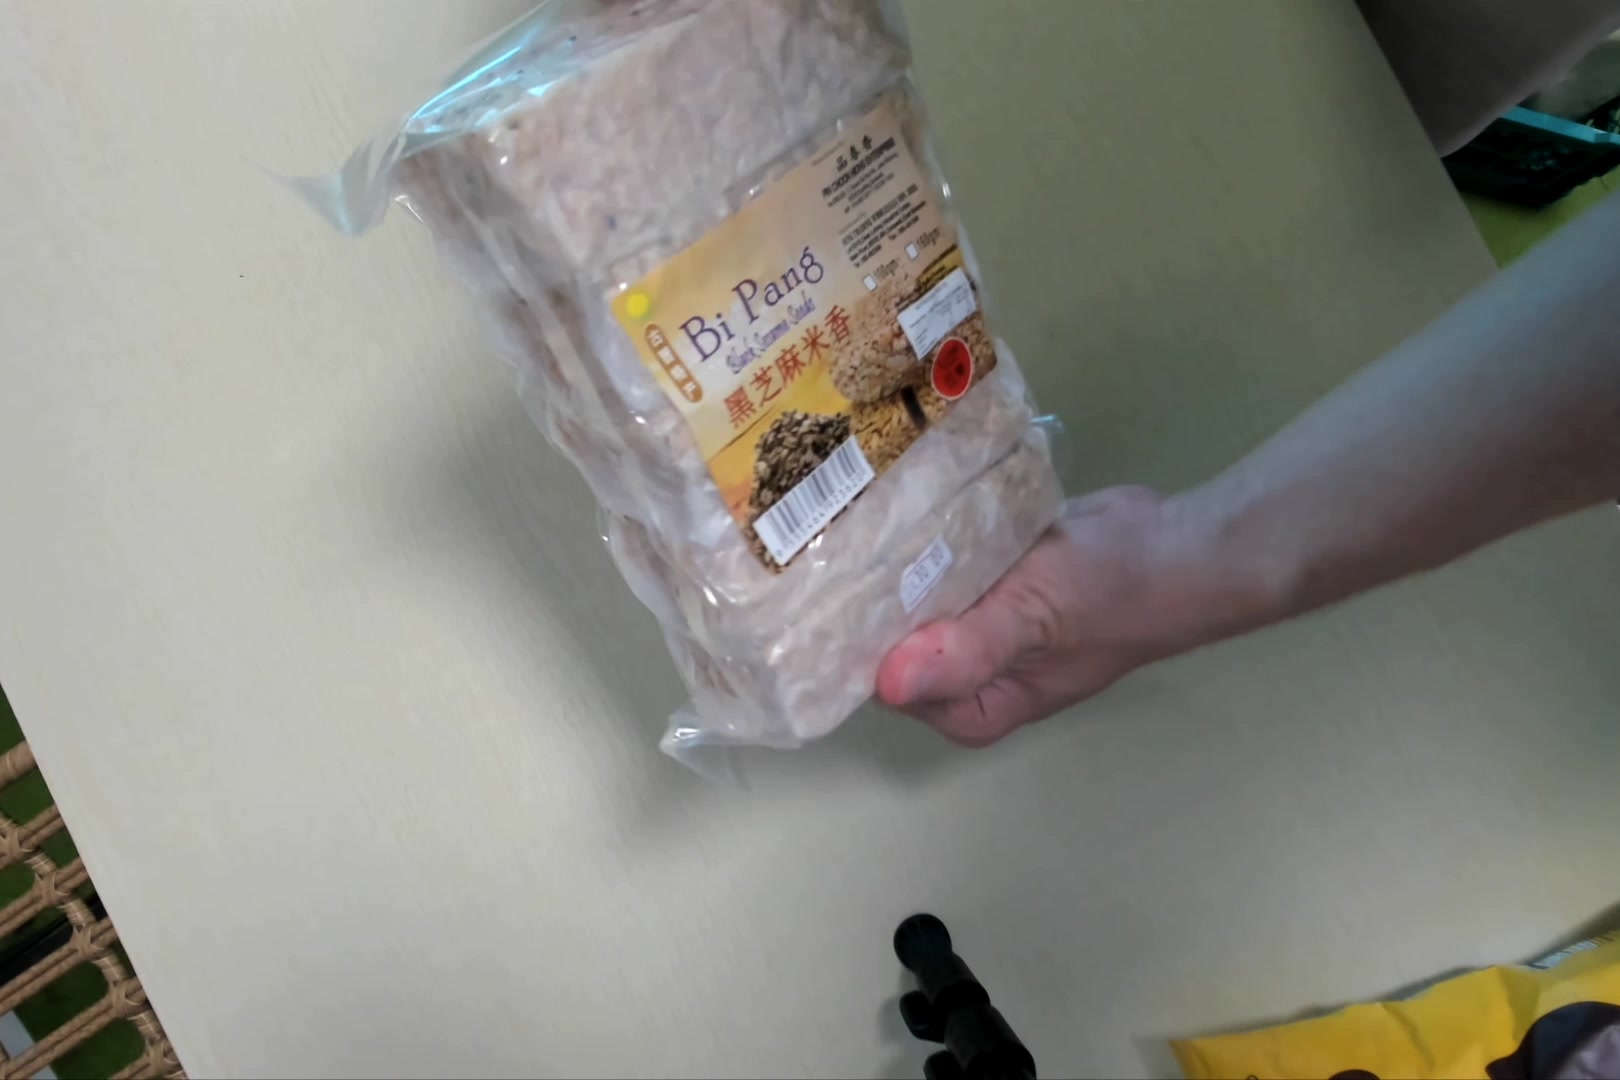PotatoChipsKeropok_100-199g_NonHalal_NonHealthy: (403, 20, 1062, 765)
